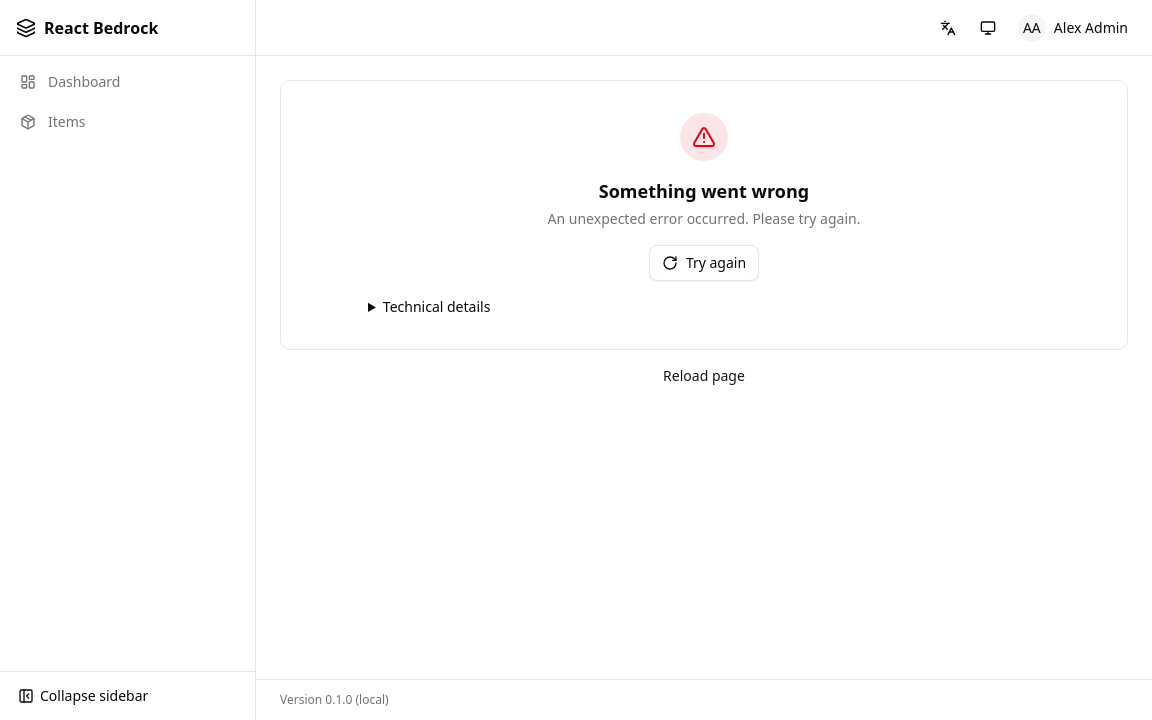
Test: errors on a page inside the app shell › shows the same fallback for a plain render error, and Try again renders the page again
Expected: the message shows "Something went wrong", [599,179,809,203]
Expected: the header is shown, [256,0,1151,56]
Step 1. Click the button "Try again" → (704, 263), box [649,245,759,281]
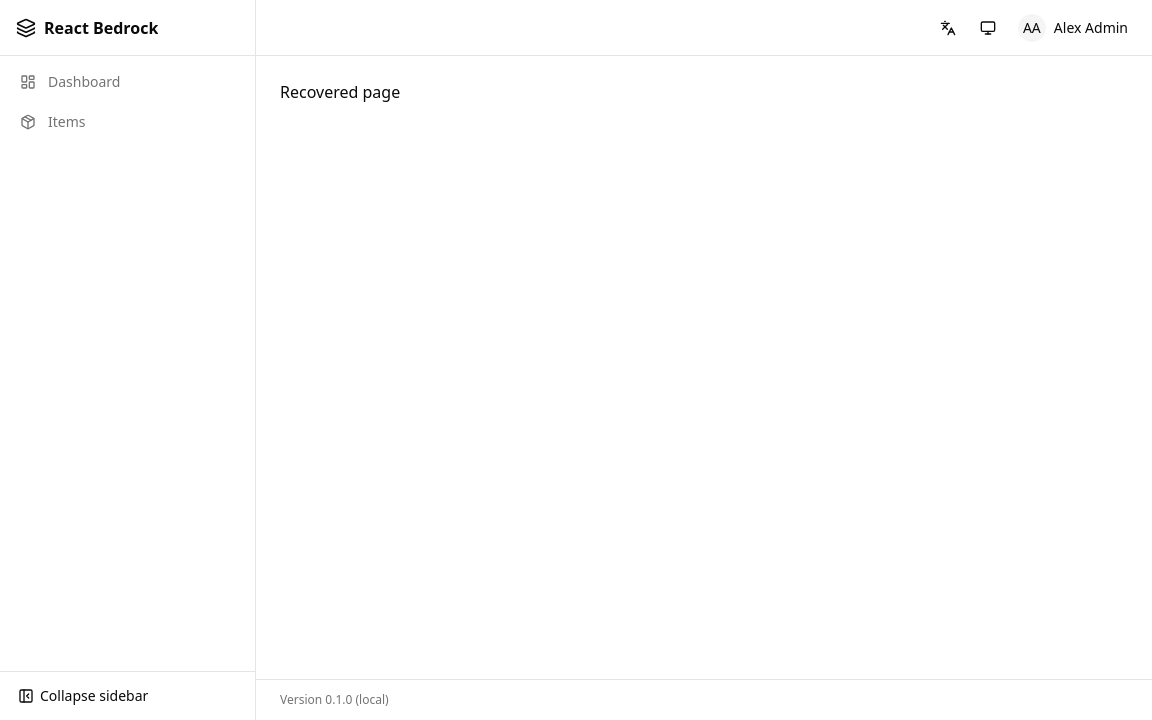
Expected: the heading "Recovered page" is shown, [280,81,400,103]
Expected: the message is gone
